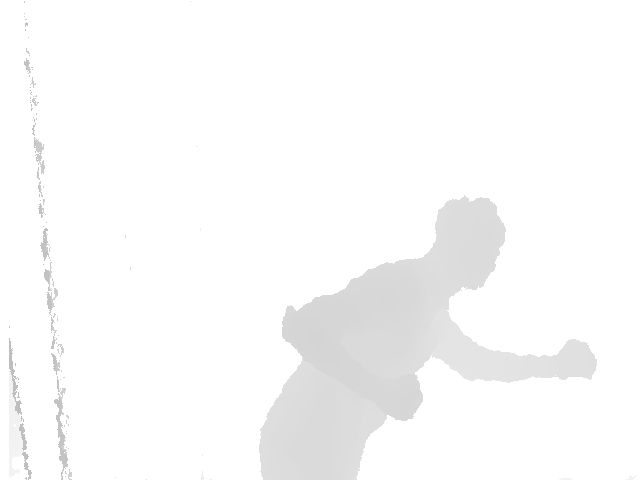head: (431, 196, 506, 292)
person: (258, 196, 598, 480)
